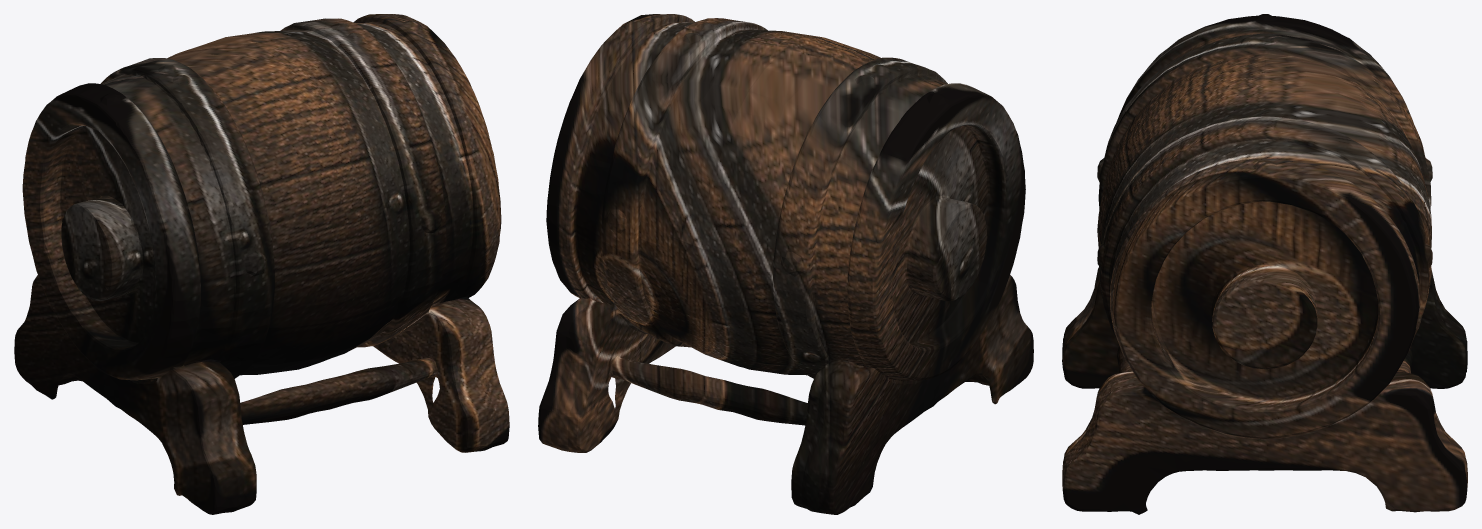
The model's file is barril_cerveja.glb.
3 views of the same model, side by side, from view 1: azimuth 30°, elevation 25°; view 2: azimuth 150°, elevation 25°; view 3: azimuth 270°, elevation 25° (orthographic).
Visible parts, largest first — view 1: tmpdnnrc2_w.ply; view 2: tmpdnnrc2_w.ply; view 3: tmpdnnrc2_w.ply.
Part boxes in pixels (x1=…): tmpdnnrc2_w.ply: x1=14, y1=14, x2=509, y2=514; tmpdnnrc2_w.ply: x1=538, y1=14, x2=1033, y2=514; tmpdnnrc2_w.ply: x1=1062, y1=14, x2=1467, y2=514.
Size of the model in its own units: 1.96 by 1.94 by 1.96.
1 material, 1 textured.
